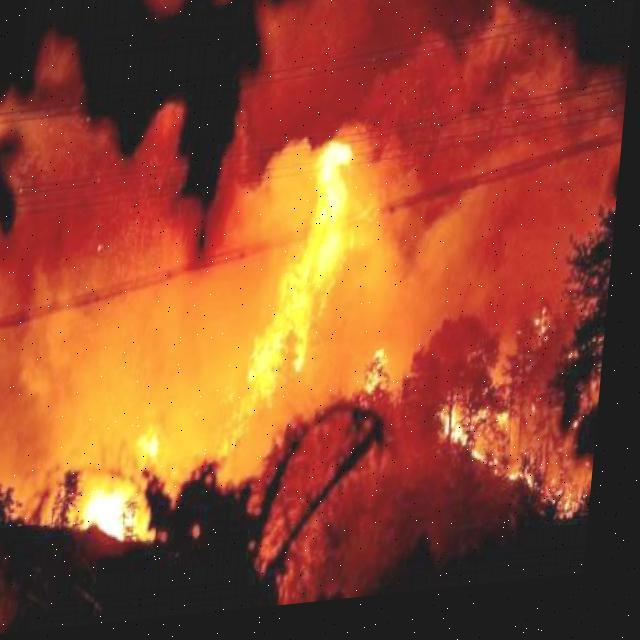Fire: (250, 148, 372, 440), (440, 382, 600, 544), (72, 422, 182, 556), (367, 356, 401, 413)
